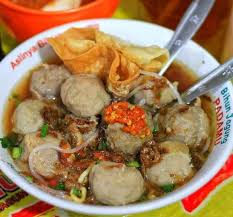bakso: (24, 63, 222, 203)
